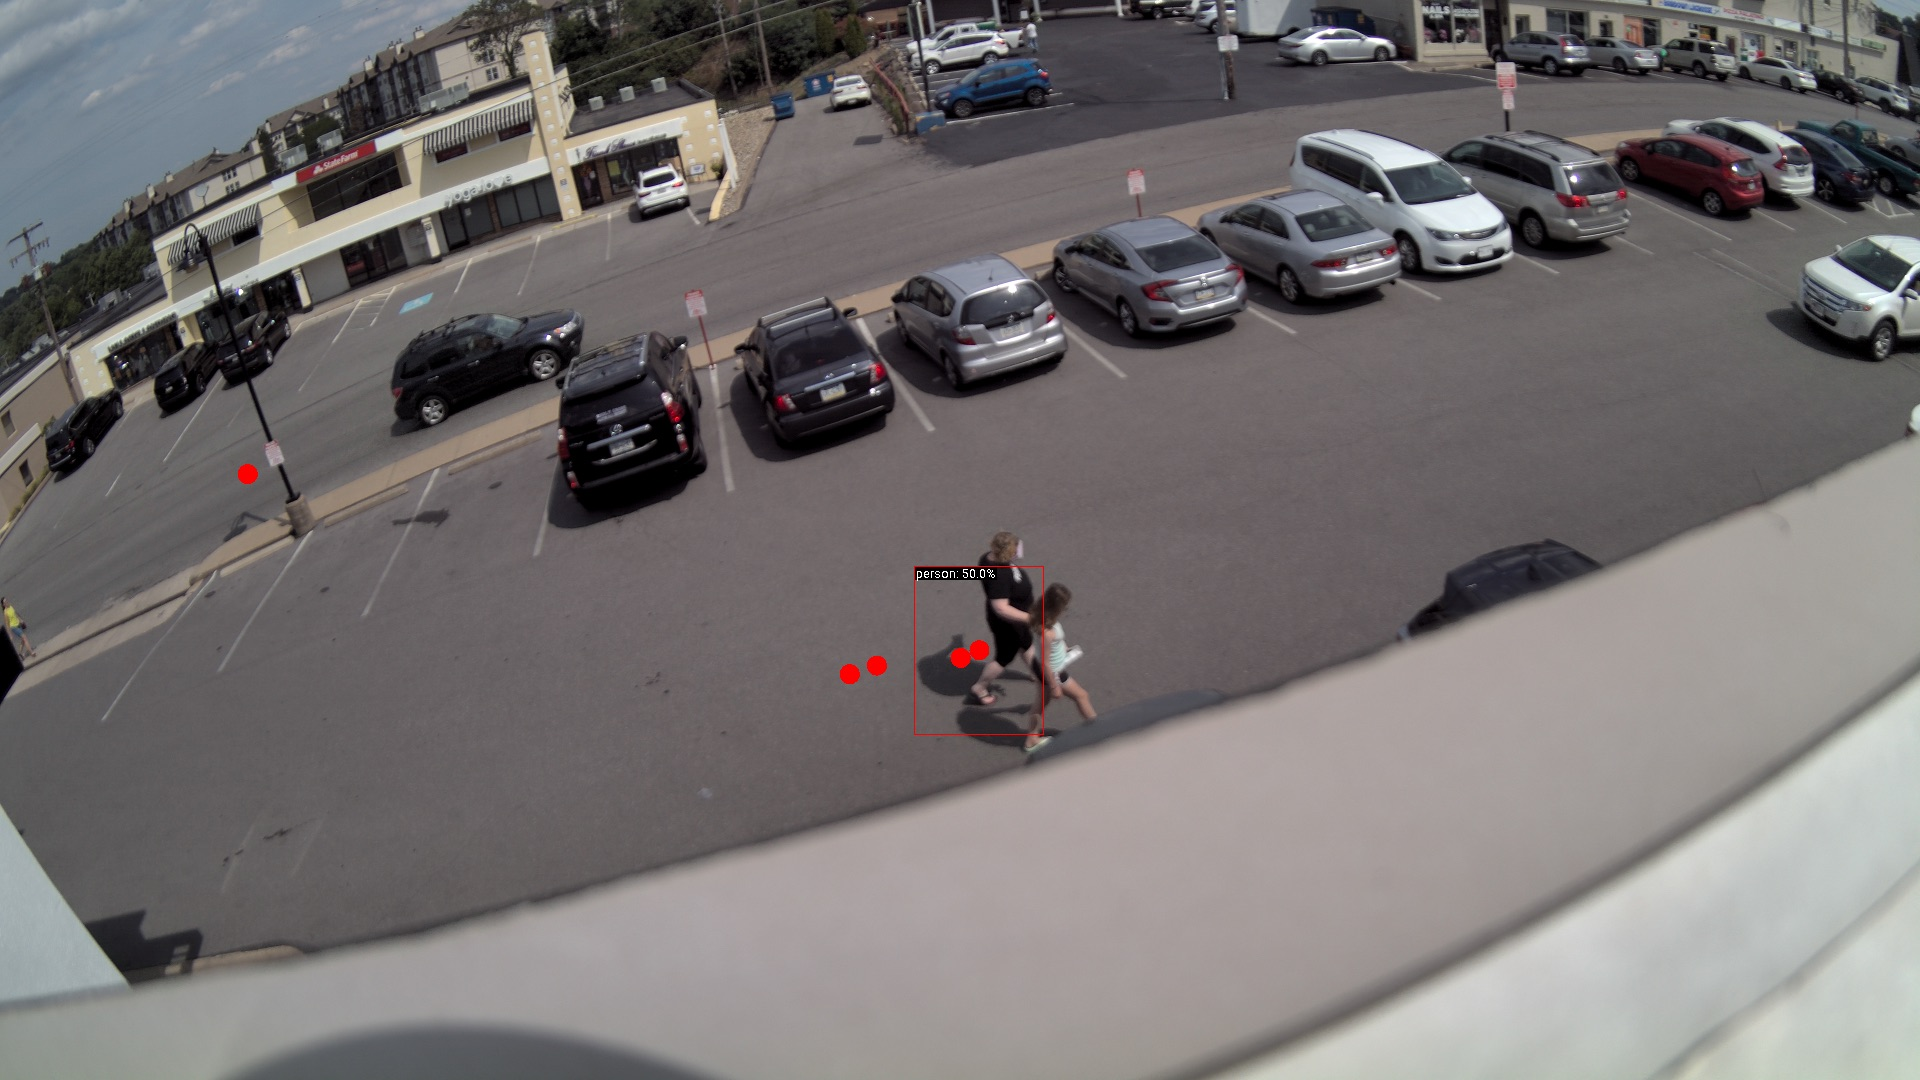person: (977, 537, 1043, 711), (1030, 585, 1095, 750)
